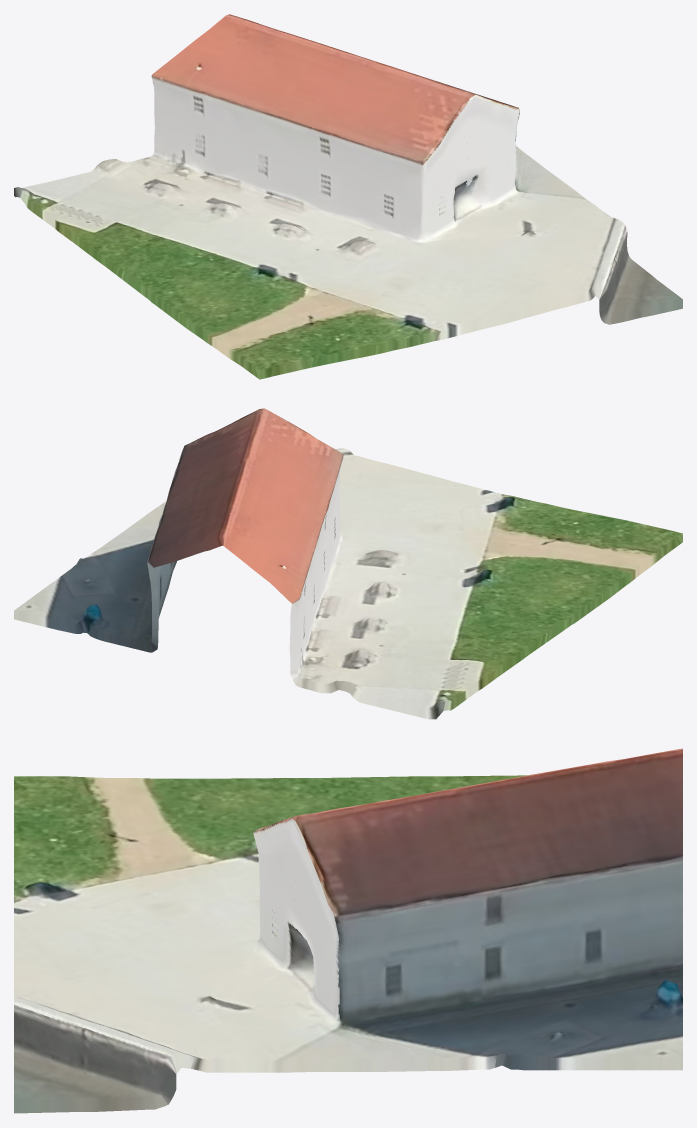
The model's file is z20-167566-405173-h0-yup-uvflip-v3-world.glb.
The picture shows the model from 3 angles, top to bottom: view 1: azimuth 30°, elevation 25°; view 2: azimuth 150°, elevation 25°; view 3: azimuth 270°, elevation 25°; orthographic projection. The views are drawn at different scales.
Size of the model in its own units: 30.16 by 11.28 by 30.32.
1 material, 1 textured.
